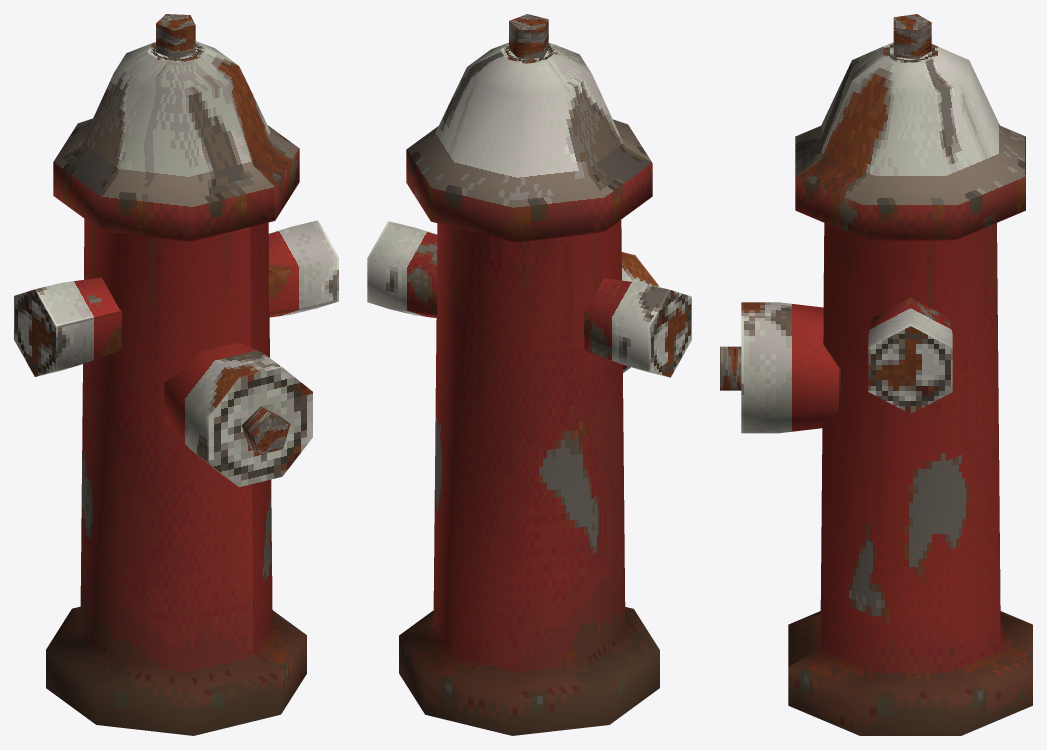
The model's file is fire_hydrant.glb.
3 views of the same model, side by side, from view 1: azimuth 30°, elevation 25°; view 2: azimuth 150°, elevation 25°; view 3: azimuth 270°, elevation 25° (orthographic).
Parts seen in each view (by area): view 1: fire_hydrant; view 2: fire_hydrant; view 3: fire_hydrant.
Part boxes in pixels (x1,y1,x2,y2): fire_hydrant: [14, 14, 338, 735]; fire_hydrant: [367, 14, 691, 735]; fire_hydrant: [720, 14, 1032, 735].
Size of the model in its own units: 0.31 by 0.69 by 0.2955.
1 material, 1 textured.
